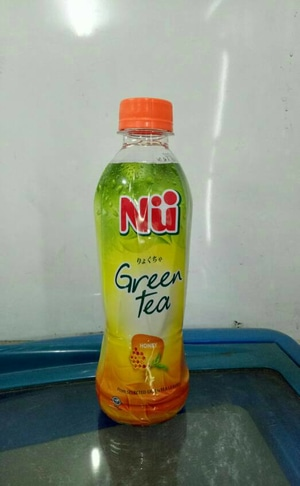botol: (90, 96, 192, 429)
